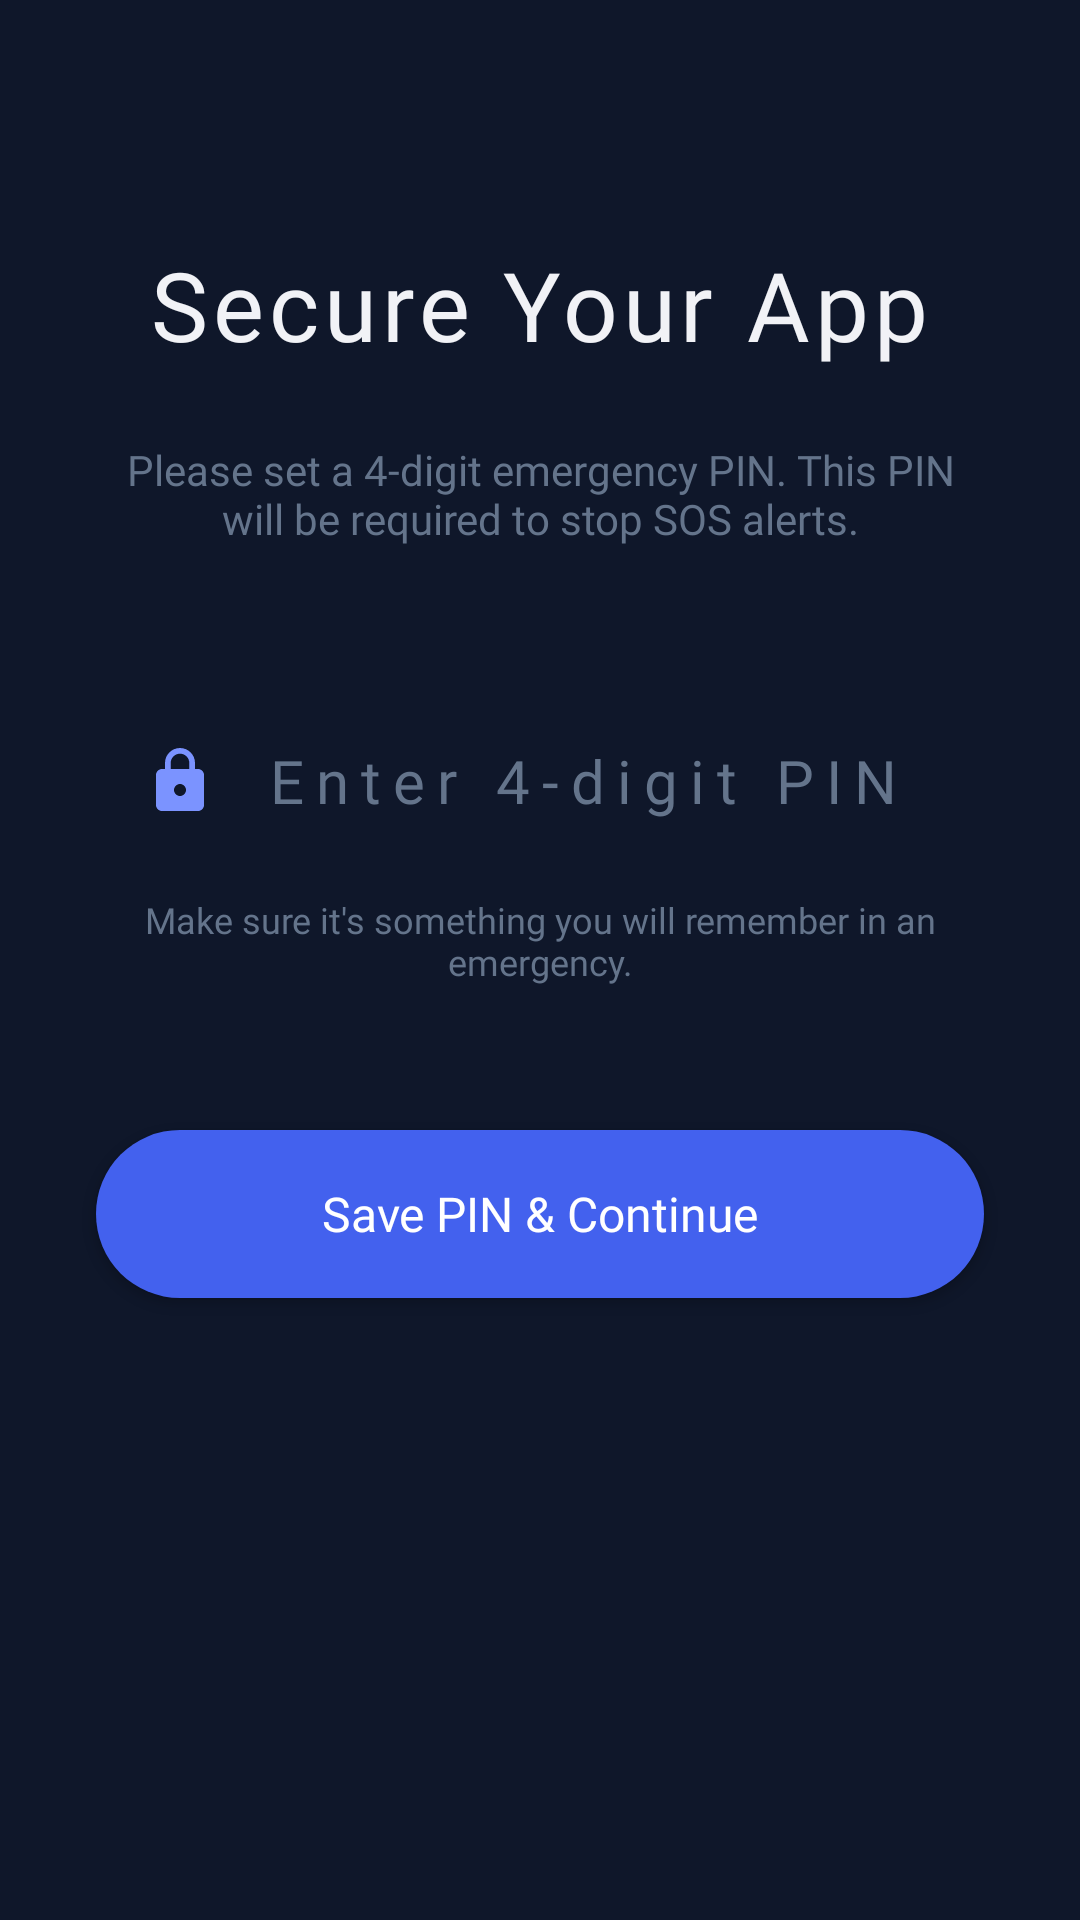

Point at icon controls on the screen. Image size 1080w x 1920h, points as (x,y).
Lock Icon: (180,779)
